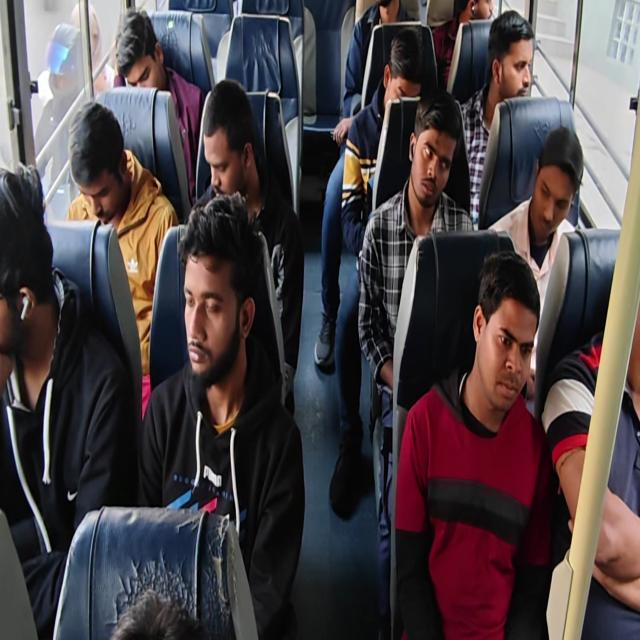person: (176, 211, 253, 385), (0, 168, 55, 359), (72, 110, 130, 236), (479, 286, 532, 408), (198, 88, 250, 200), (488, 26, 546, 106), (532, 152, 584, 240), (110, 20, 165, 93), (378, 36, 425, 120), (412, 120, 454, 196), (454, 0, 498, 33), (373, 0, 400, 23)
